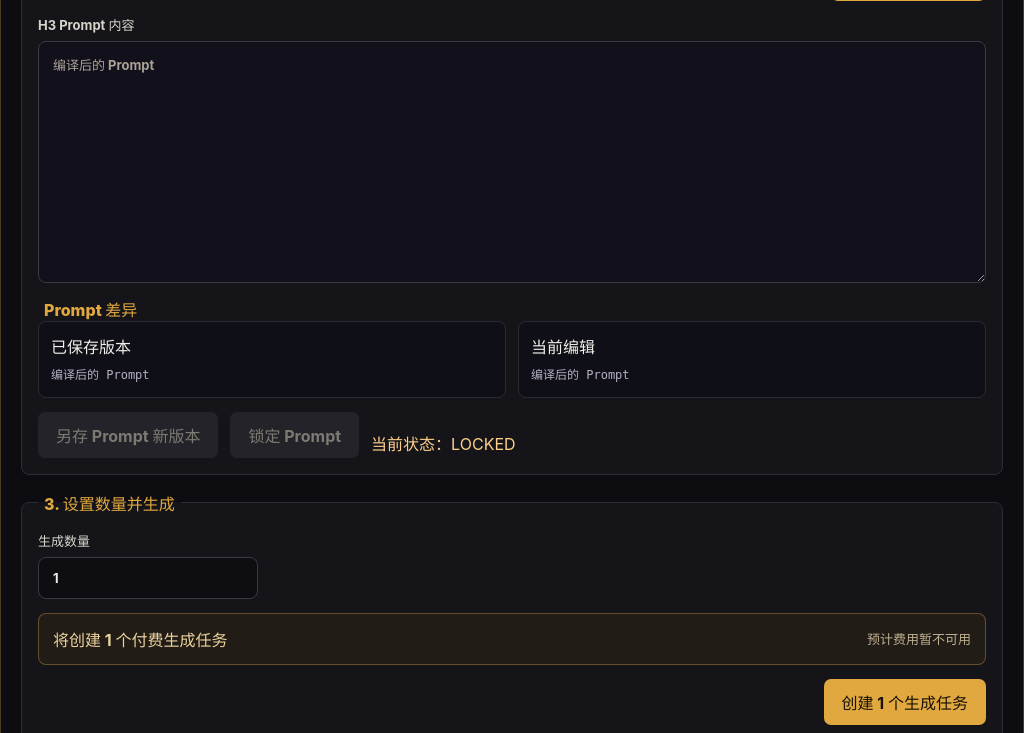
Scenario: GenerationComposer › rejects decimal and out-of-range quantities while allowing one and the maximum
(page scrolled)
expect the button "创建 1 个生成任务" is enabled: met, box [824,679,986,725]
Replace the text in the number field labelled "生成数量" with "1.5" at (148, 578), box [38,557,258,599]
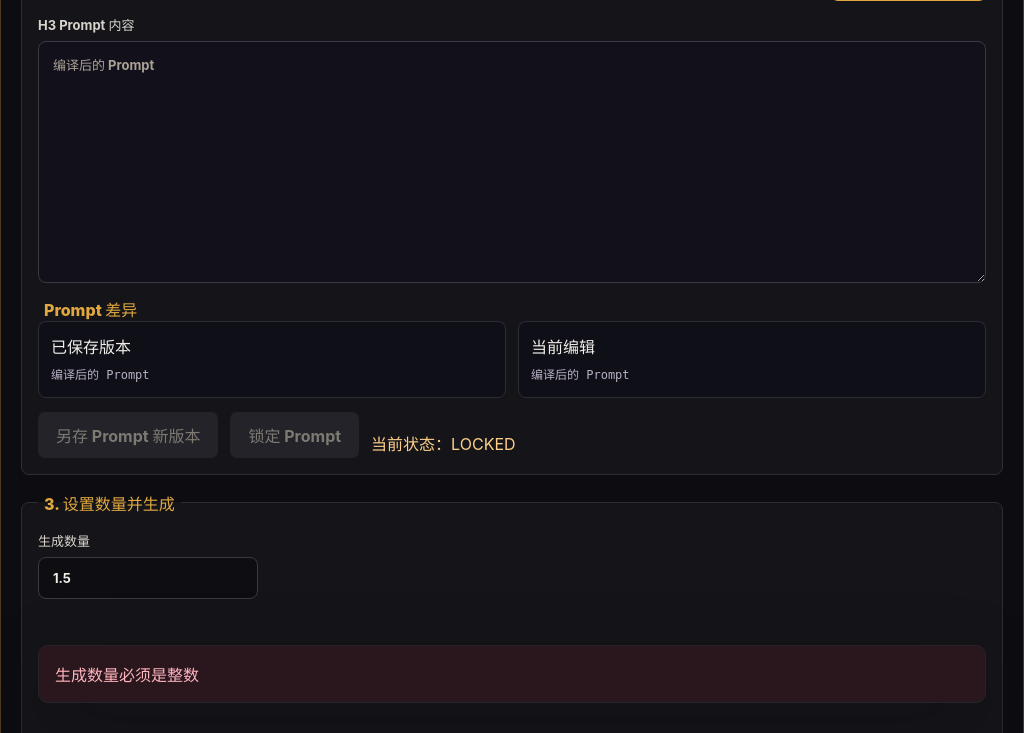
expect the text "生成数量必须是整数" is shown: met, box [38,645,986,703]
Replace the text in the number field labelled "生成数量" with "5" at (148, 578), box [38,557,258,599]
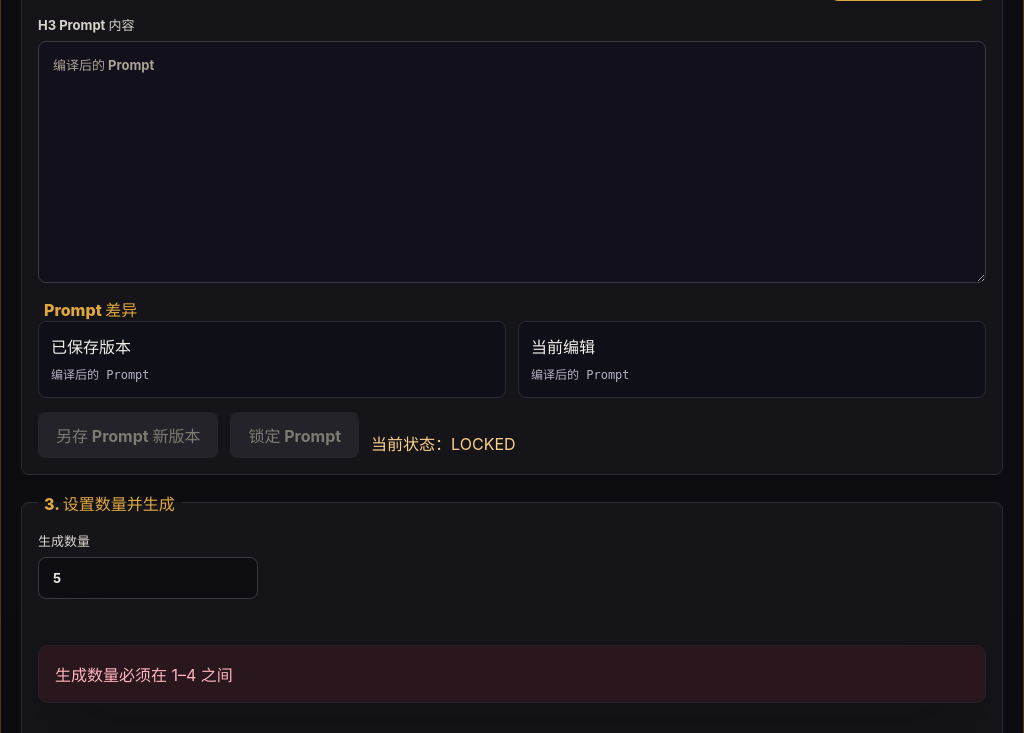
expect the text "生成数量必须在 1–4 之间" is shown: met, box [38,645,986,703]
Replace the text in the number field labelled "生成数量" with "4" at (148, 578), box [38,557,258,599]
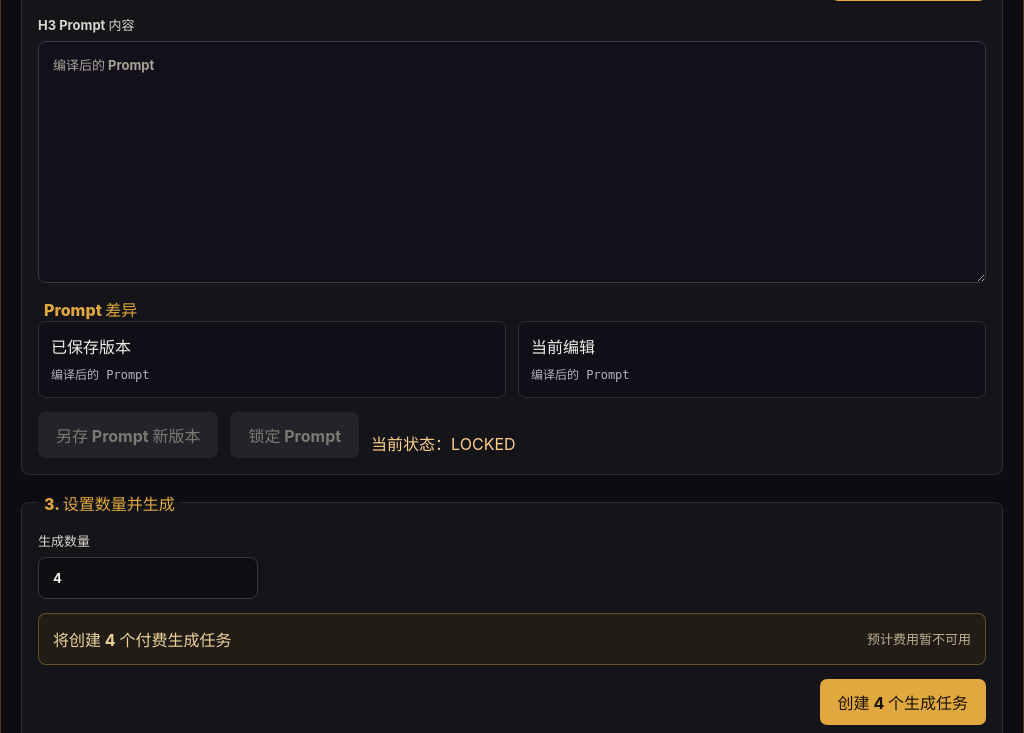
expect the button "创建 4 个生成任务" is enabled: met, box [820,679,986,725]
